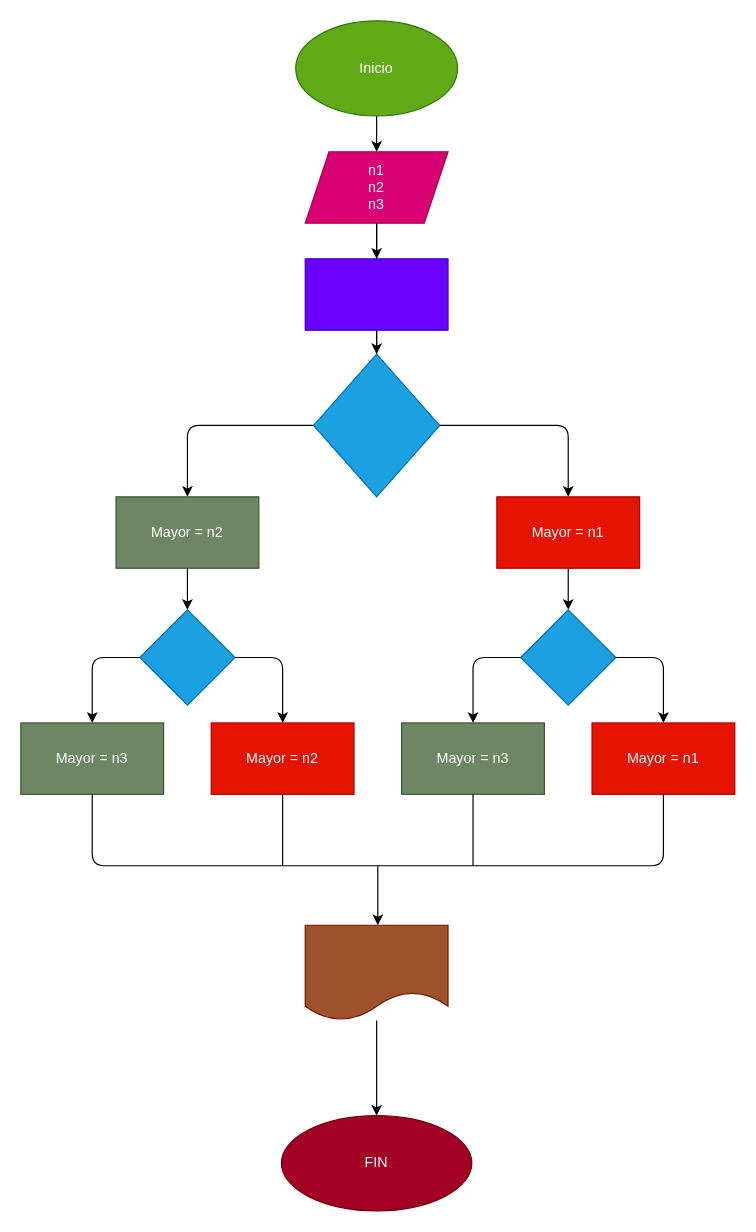
This 756x1232 diagram has some shape labels left out. Here are the shapes that lost their labels. From the top down, the centre of each, then its label:
At pixel 376 294: "n1 < n2 n2 < n3 n1 < n3".
At pixel 376 425: "n1 < n2".
At pixel 187 657: "n2 < n3".
At pixel 567 657: "n1 < n3".
At pixel 376 972: "Mayor".
